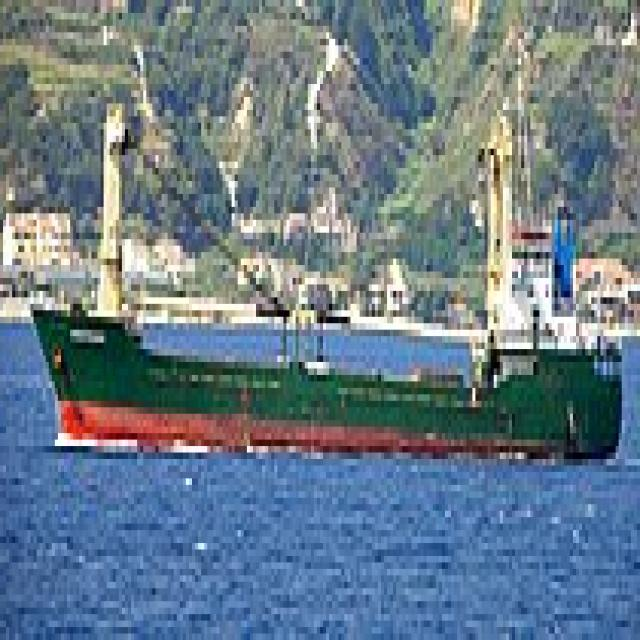Cargo: (30, 84, 628, 459)
